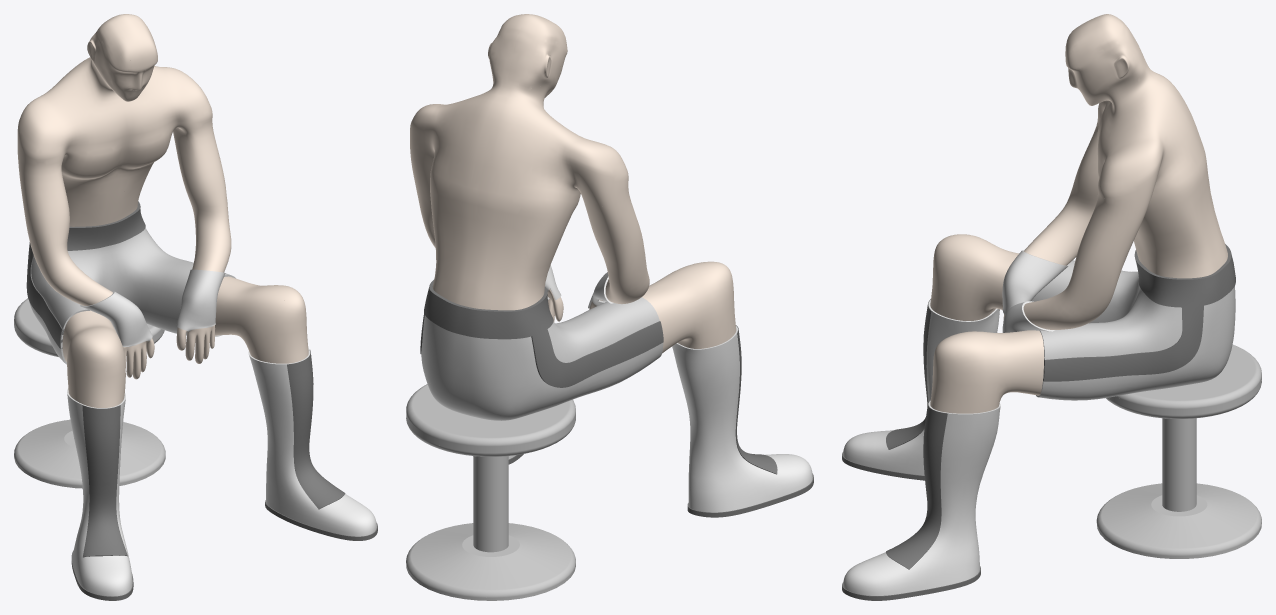
3 views of the same model, side by side, from view 1: azimuth 30°, elevation 25°; view 2: azimuth 150°, elevation 25°; view 3: azimuth 270°, elevation 25° (orthographic). The views are drawn at different scales.
Parts seen in each view (by area): view 1: 237_tiredGuy2; view 2: 237_tiredGuy2; view 3: 237_tiredGuy2.
Part boxes in pixels (x1,y1,x2,y2): 237_tiredGuy2: (14, 14, 377, 600); 237_tiredGuy2: (406, 14, 813, 600); 237_tiredGuy2: (842, 14, 1261, 600).
Size of the model in its own units: 0.1098 by 0.1694 by 0.127.
